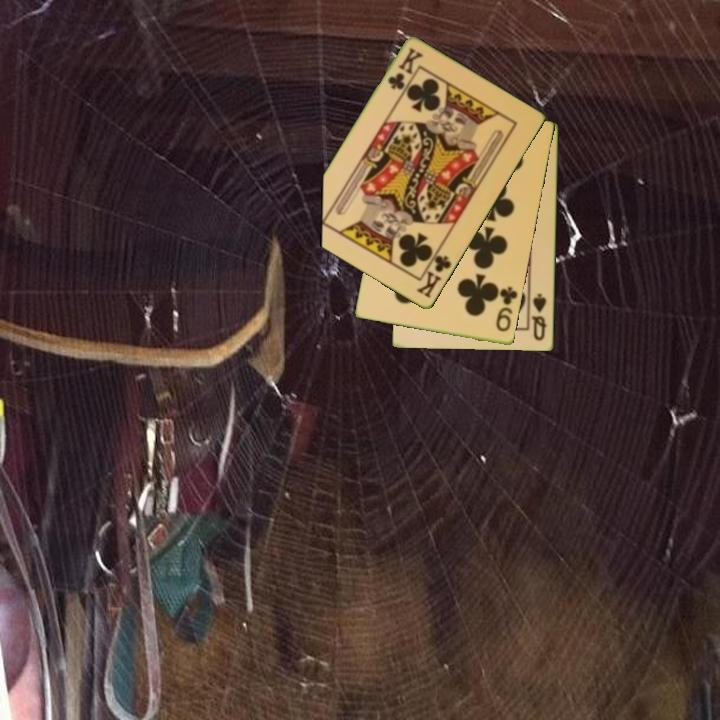9c: (493, 283, 521, 335)
Kc: (413, 246, 455, 301), (384, 45, 426, 93)
Qs: (529, 290, 550, 344)
